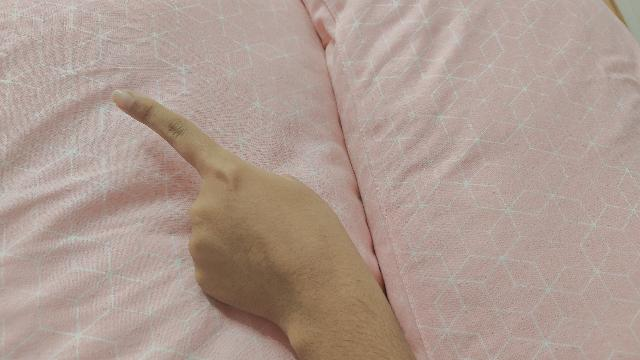soochi: (110, 90, 417, 360)
